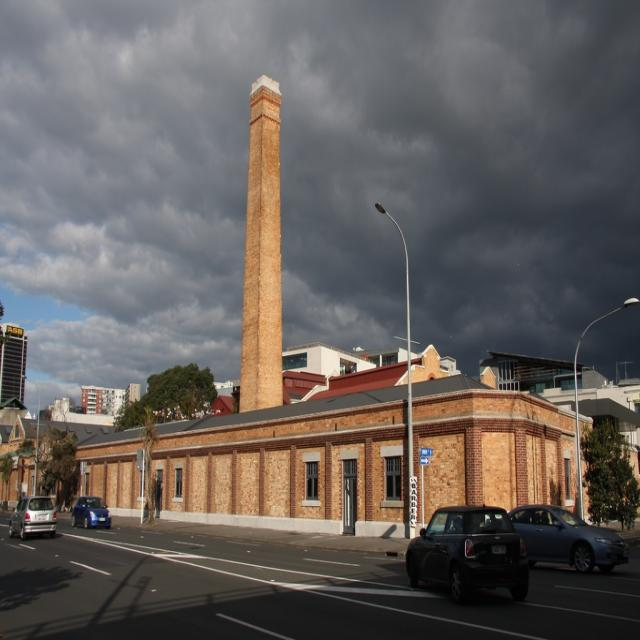car: (403, 502, 529, 606), (8, 492, 54, 538), (70, 495, 109, 530)
